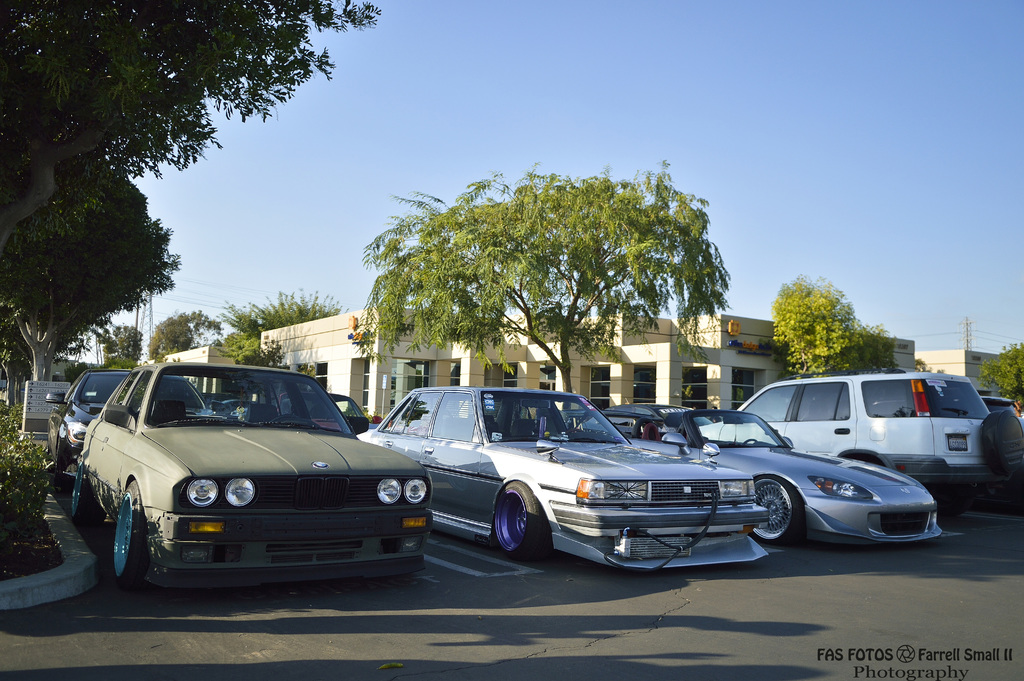Car: (52, 360, 432, 606), (356, 377, 768, 578), (578, 399, 933, 561), (664, 368, 1023, 508)
